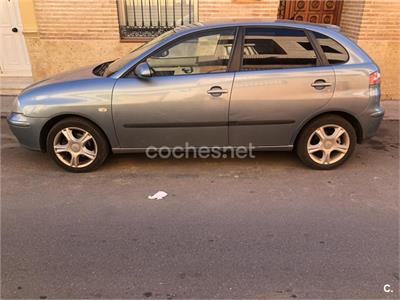car: (6, 19, 388, 177)
